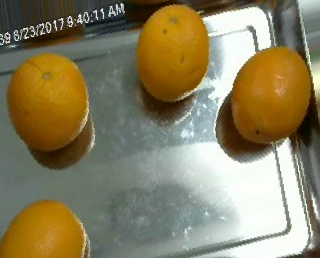Orange: (7, 53, 89, 151), (230, 45, 311, 142), (136, 3, 210, 101), (1, 199, 87, 258)
